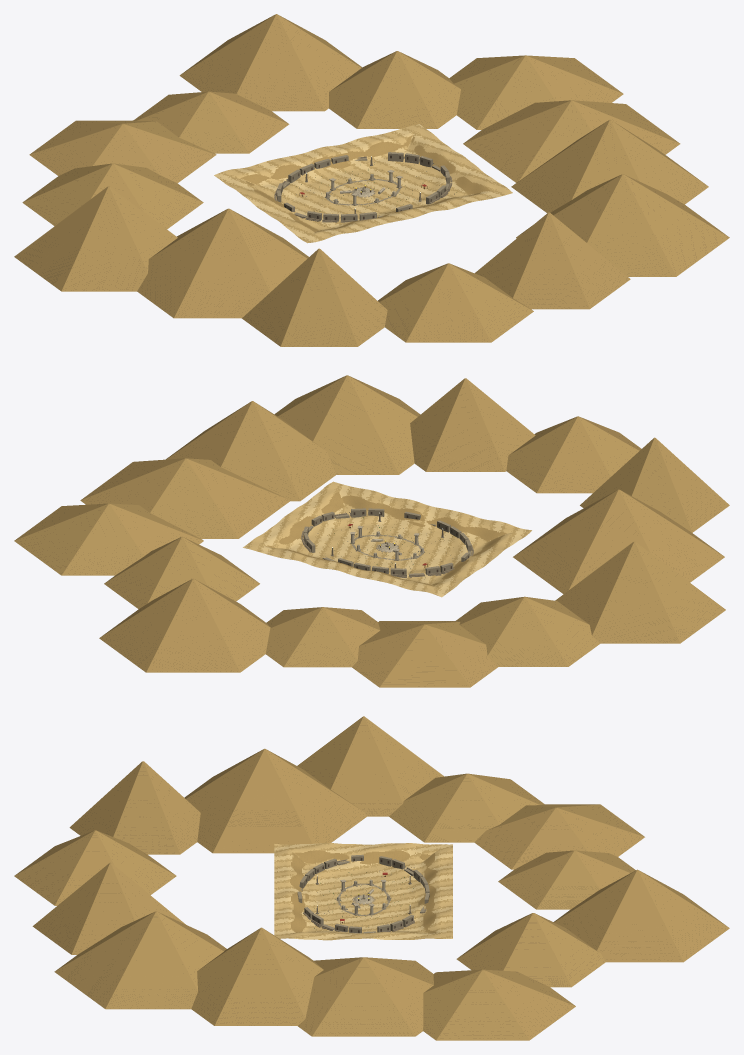
The model's file is ruins.glb.
3 views of the same model, one above another, from view 1: azimuth 30°, elevation 25°; view 2: azimuth 150°, elevation 25°; view 3: azimuth 270°, elevation 25° (orthographic). The views are drawn at different scales.
Parts seen in each view (by area): view 1: ruins_far, ground, ruins_wall; view 2: ruins_far, ground, ruins_wall; view 3: ruins_far, ground, ruins_wall.
Boxes of the visible parts, bbox=[...] form: ruins_far: bbox=[14, 14, 729, 346]; ground: bbox=[214, 124, 512, 243]; ruins_wall: bbox=[274, 152, 452, 222]; ruins_far: bbox=[14, 375, 729, 687]; ground: bbox=[243, 481, 531, 597]; ruins_wall: bbox=[301, 508, 473, 577]; ruins_far: bbox=[14, 716, 729, 1040]; ground: bbox=[274, 843, 452, 940]; ruins_wall: bbox=[297, 854, 429, 933].
Bounding box in the file's own units: 577 × 61.91 × 602.
Materials: 1 (1 with a texture image).
